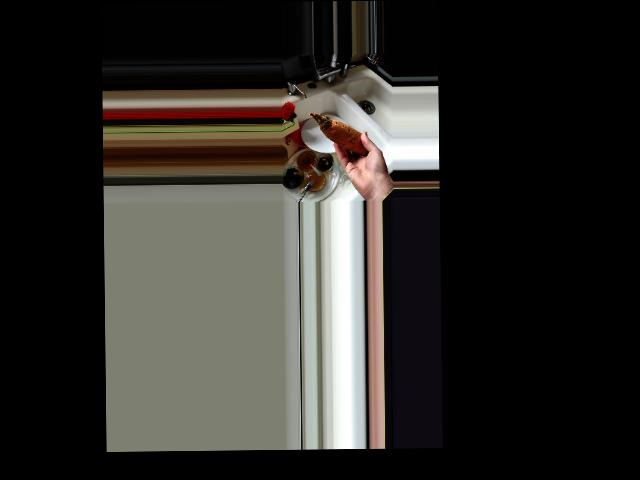sweet_potato: (308, 111, 373, 160)
